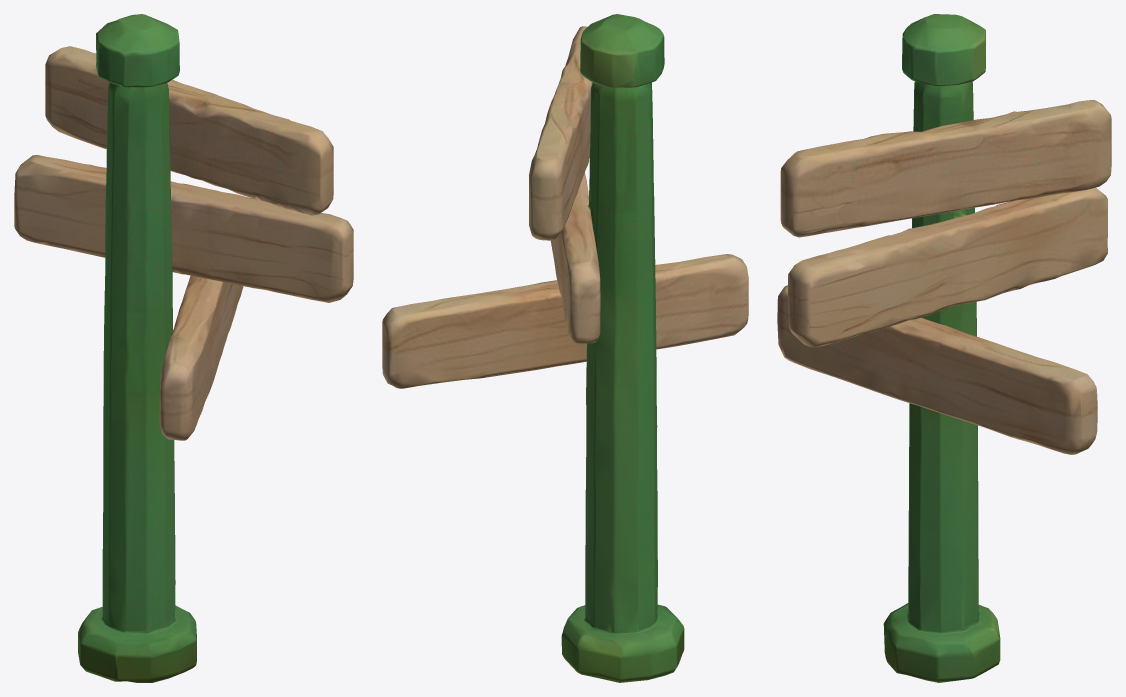
File: signpost.glb
3 views of the same model, side by side, from view 1: azimuth 30°, elevation 25°; view 2: azimuth 150°, elevation 25°; view 3: azimuth 270°, elevation 25° (orthographic).
Parts seen in each view (by area): view 1: tripo_node_dcf05886-8764-443e-89ef-9c7496ab3142; view 2: tripo_node_dcf05886-8764-443e-89ef-9c7496ab3142; view 3: tripo_node_dcf05886-8764-443e-89ef-9c7496ab3142.
Part boxes in pixels (x1,y1,x2,y2): tripo_node_dcf05886-8764-443e-89ef-9c7496ab3142: (14,14,353,682); tripo_node_dcf05886-8764-443e-89ef-9c7496ab3142: (382,14,748,682); tripo_node_dcf05886-8764-443e-89ef-9c7496ab3142: (777,14,1111,682).
Bounding box in the file's own units: 0.373 × 1 × 0.4735.
1 material, 1 textured.
